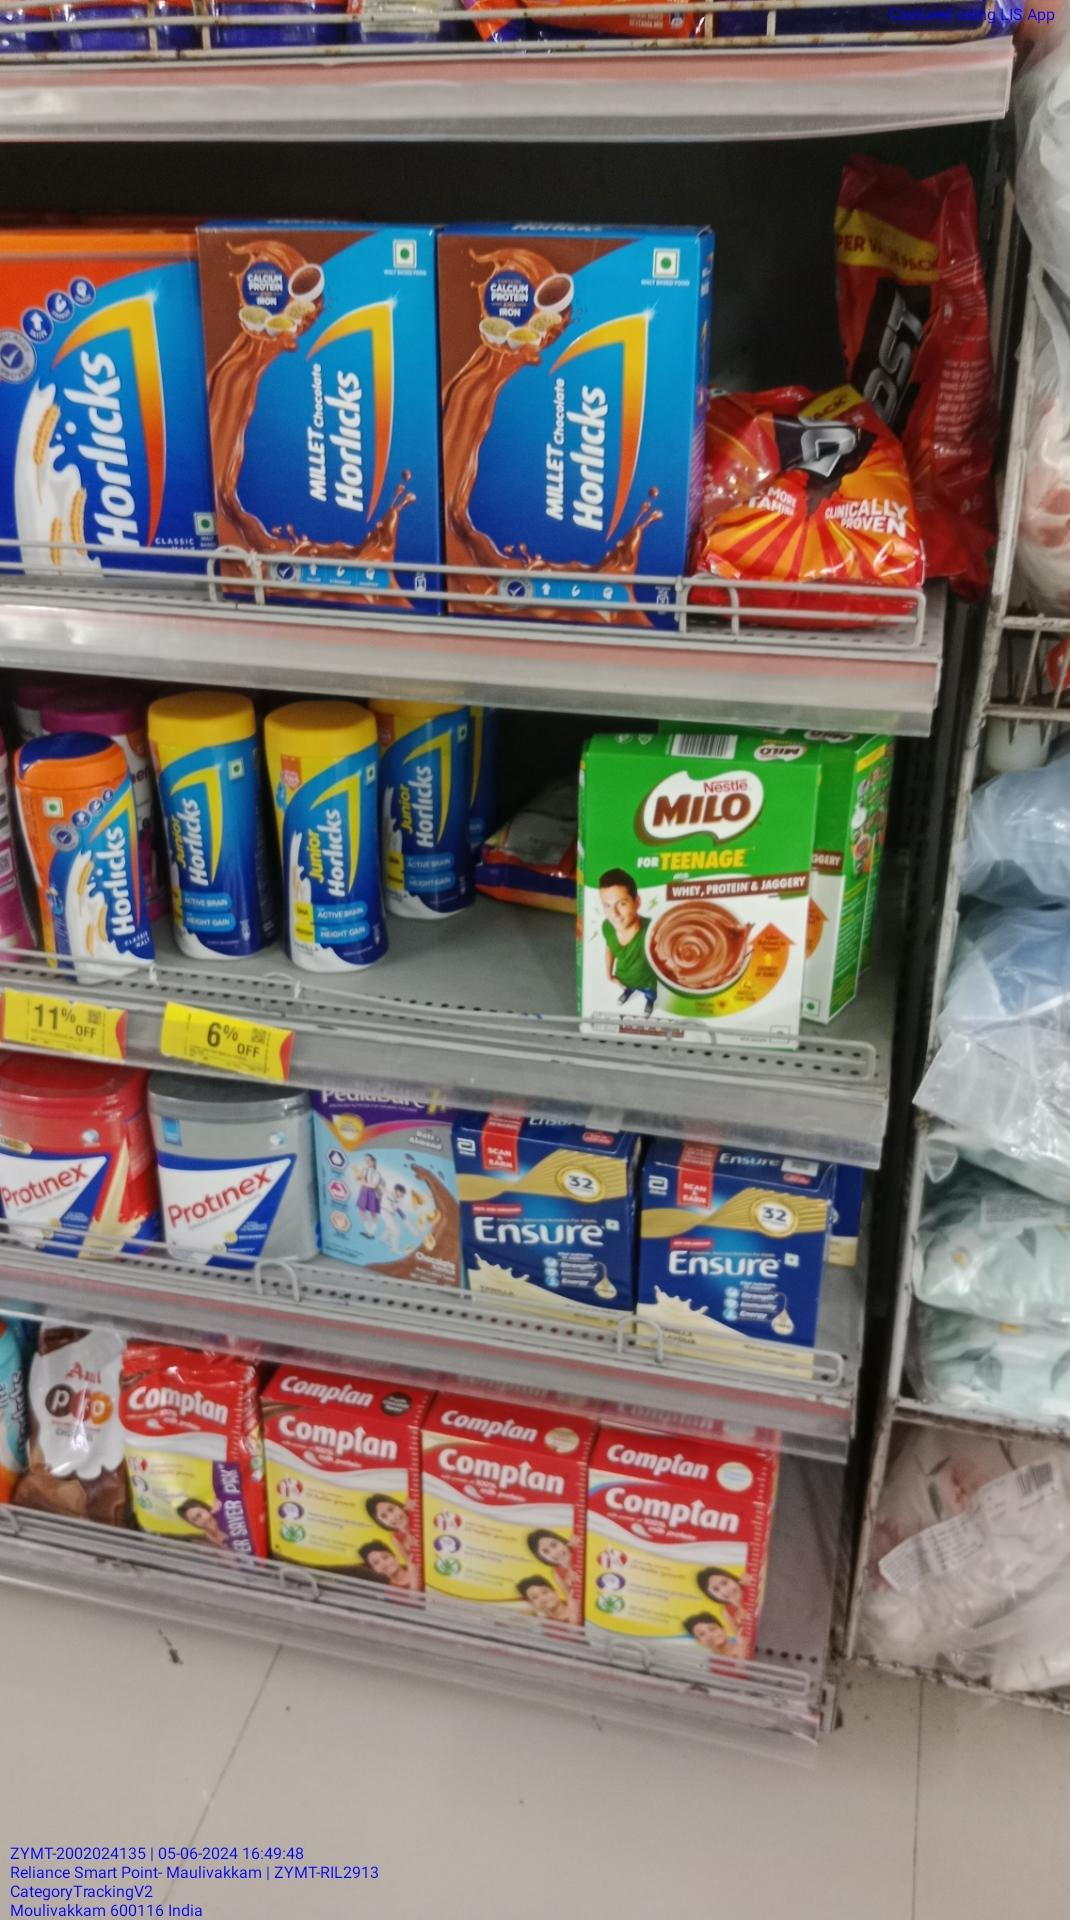COMPLAN_CREAMY_CLASSIC_500_G_PACK: (586, 1472, 756, 1672)
HORLICKS_JUNIOR_VANILLA_500_GM_JAR: (271, 718, 377, 973), (161, 710, 261, 963), (383, 701, 474, 918)
HORLICK_CLASSIC_MALT_500_G_JAR: (18, 751, 148, 976)
HORLICK_CLASSIC_MALT_500_G_PACK: (3, 221, 196, 582)
PROTINEX_ORIGINAL_400_G_JAR: (159, 1096, 310, 1268)
PROTINEX_VANILLA_400_G_JAR: (0, 1087, 138, 1265)
